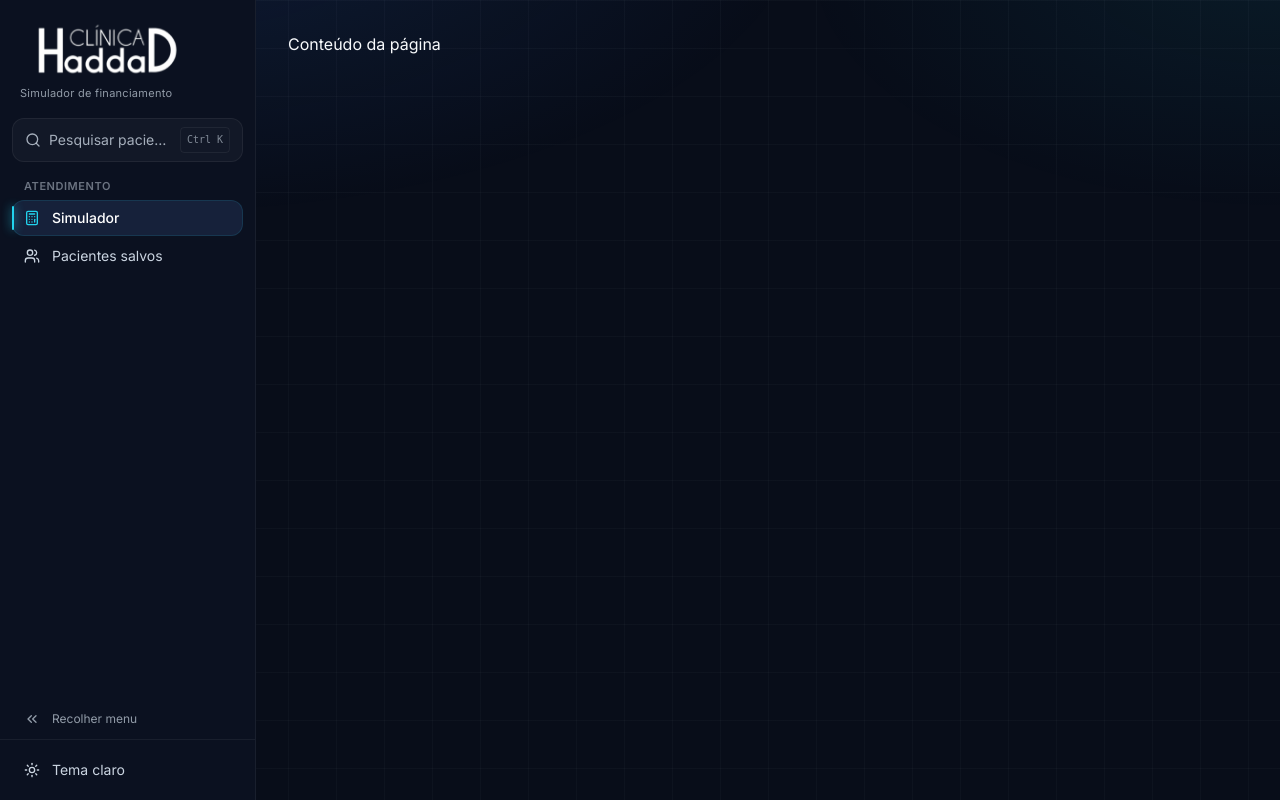
it: AppShell — menu lateral › recolhe e expande o menu, lembrando a escolha neste aparelho
Expected: the text "Atendimento" is shown, x1=24 y1=179 x2=111 y2=193
Click the button "Recolher menu". click: (128, 719)
box: x1=12 y1=703 x2=243 y2=735
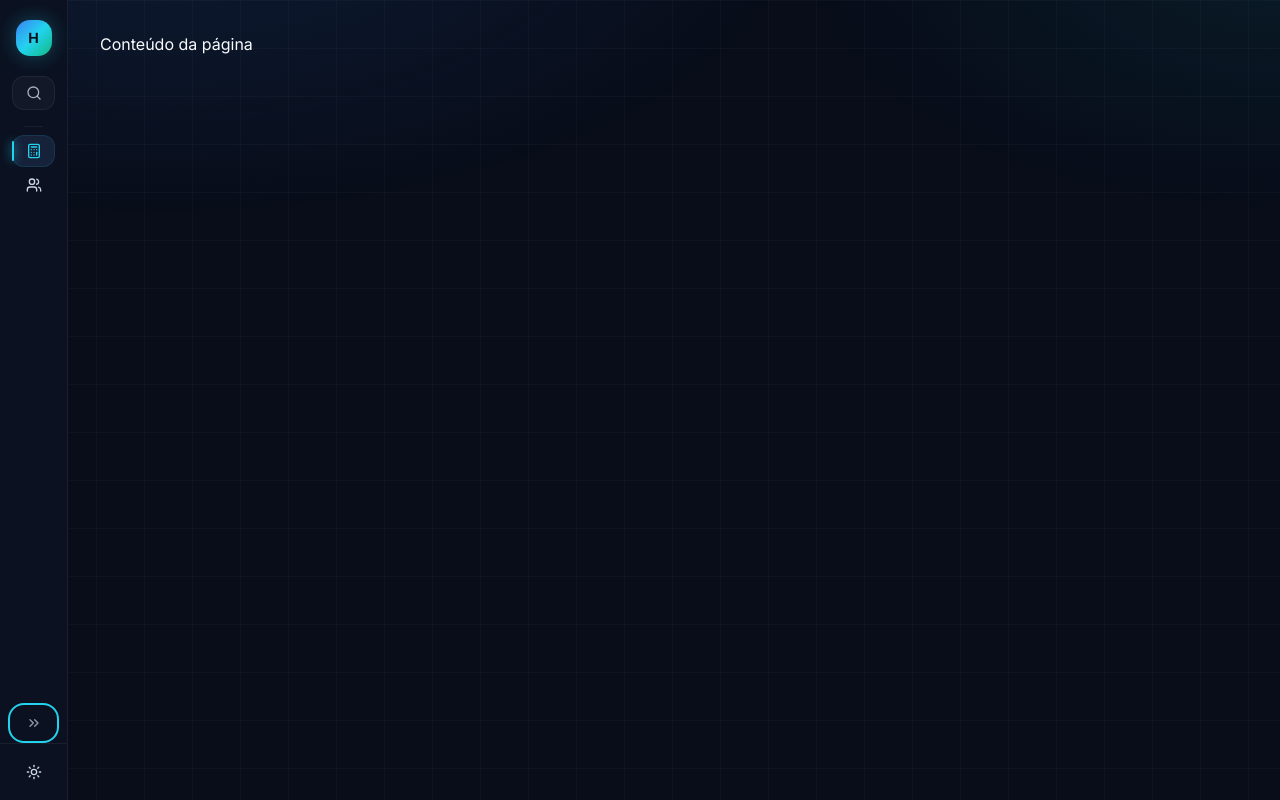
Expected: the button named "Pacientes salvos" is shown, x1=12 y1=169 x2=55 y2=201
Now the text "Atendimento" is gone
Click the button named "Expandir menu". click: (34, 723)
box: x1=12 y1=707 x2=55 y2=739
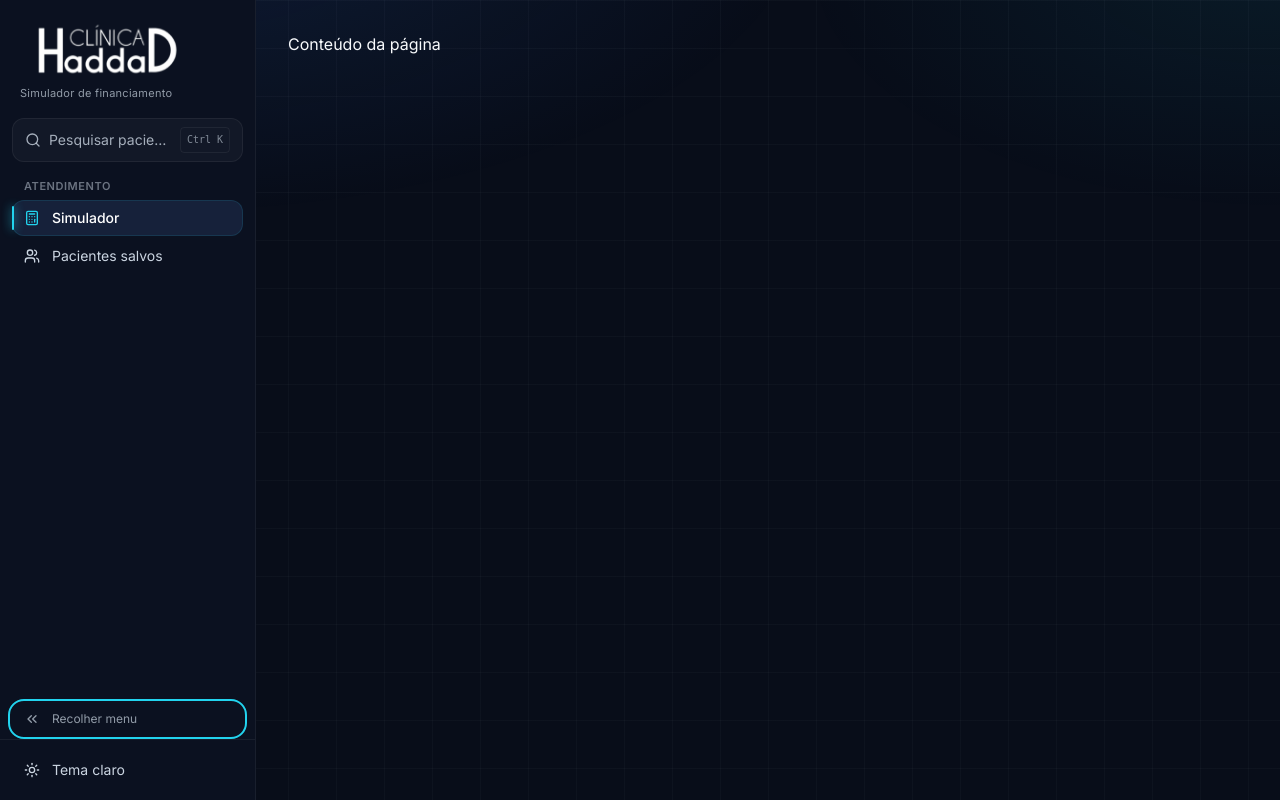
Now the text "Atendimento" is shown, box x1=24 y1=179 x2=111 y2=193
